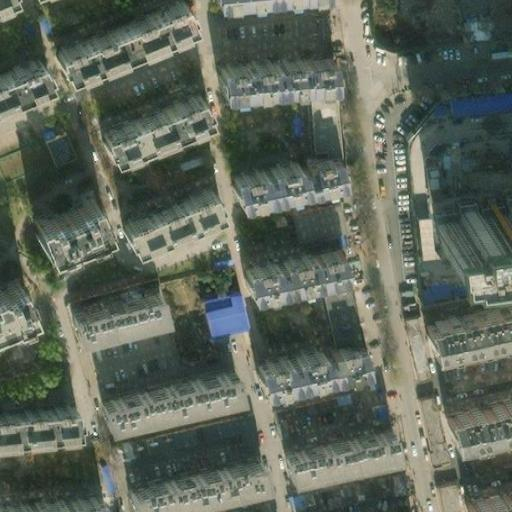building: (48, 0, 182, 66), (96, 369, 236, 426), (121, 456, 260, 512), (93, 81, 200, 148), (111, 173, 217, 237), (423, 111, 512, 181), (272, 422, 389, 475), (225, 144, 333, 199), (255, 333, 361, 386), (244, 237, 347, 287), (211, 49, 331, 91), (421, 287, 512, 340), (65, 281, 160, 329), (22, 195, 97, 255), (429, 196, 512, 240), (436, 387, 512, 431), (0, 393, 79, 434), (316, 263, 354, 337), (297, 78, 326, 151), (411, 390, 441, 459), (199, 292, 244, 334), (459, 477, 512, 512), (395, 308, 421, 369), (422, 476, 457, 512), (41, 127, 68, 161), (465, 14, 494, 40)
